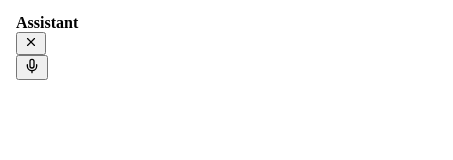
built-in voice in a retained window › reports a failed hidden finalization without an unhandled rejection
Click the button named "Start voice input" at coordinates (32, 68), box top-left (16, 55), bottom-right (48, 80)
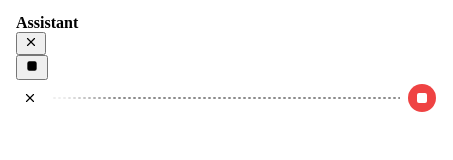
Result: the button named "Start voice input" has attribute data-state="recording" at top-left (16, 55), bottom-right (48, 80)
